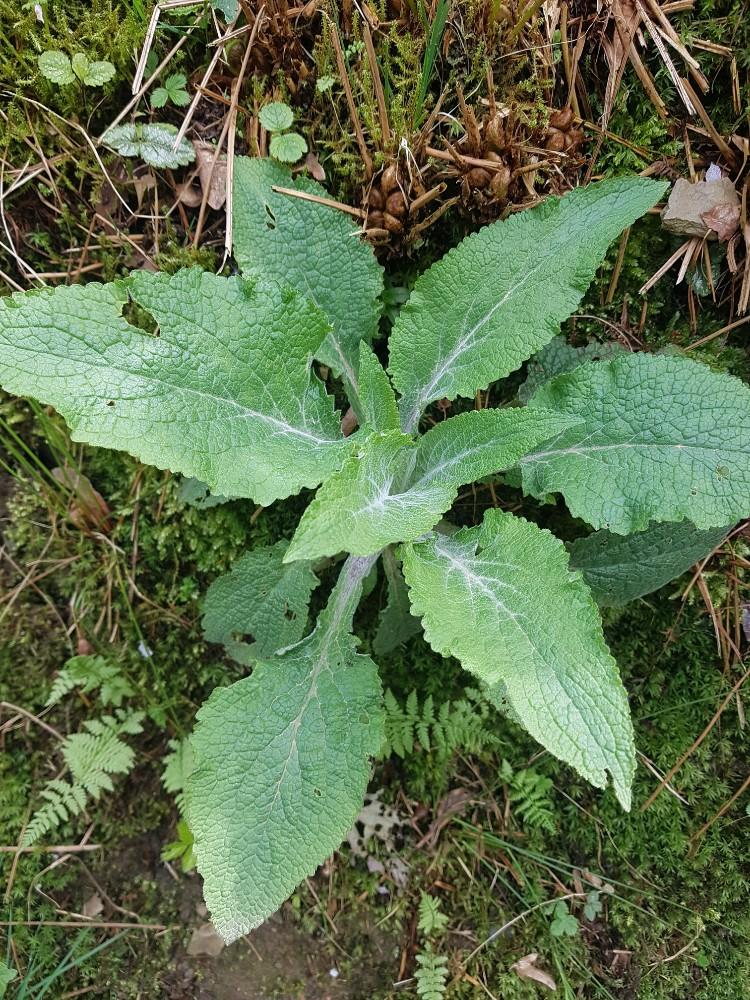Digitalis L: (0, 135, 750, 932)
